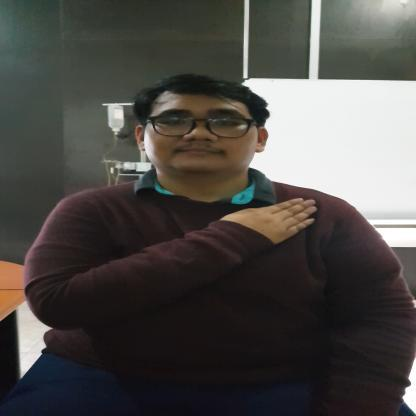Saya: (192, 196, 318, 258)
